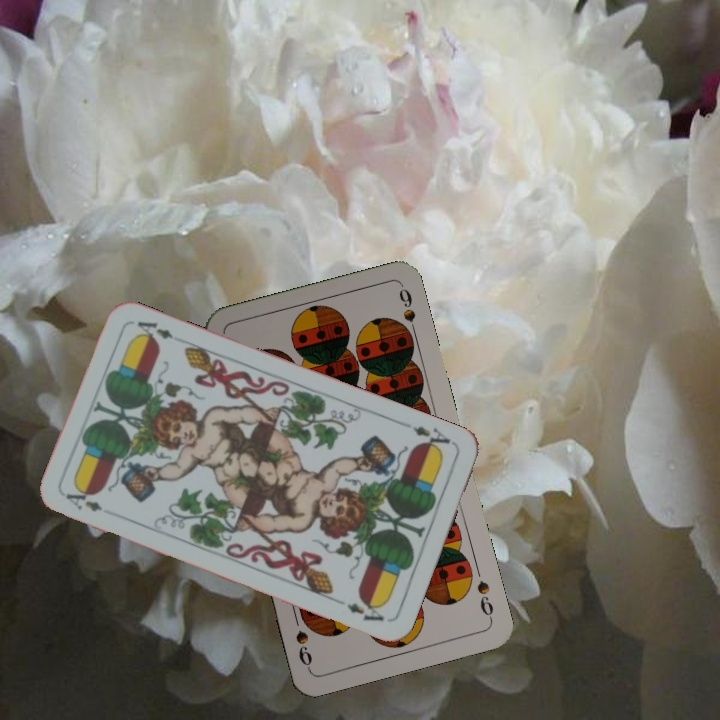EA: (407, 420, 456, 455), (61, 485, 105, 515)
S9: (472, 576, 496, 623)
